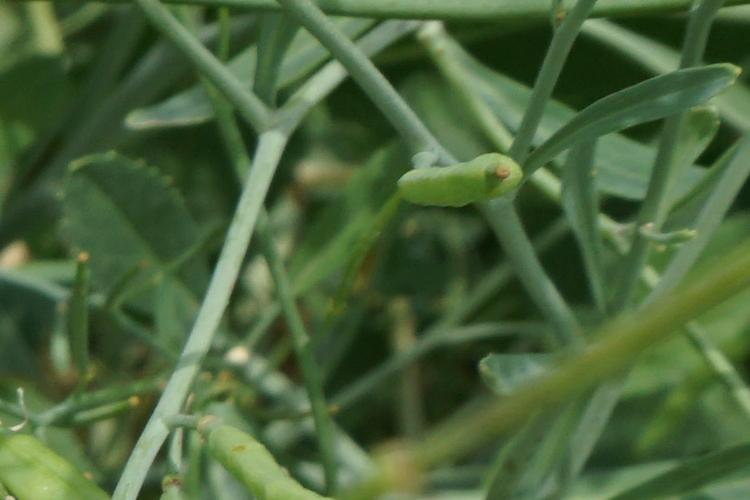pod: (372, 139, 543, 214)
